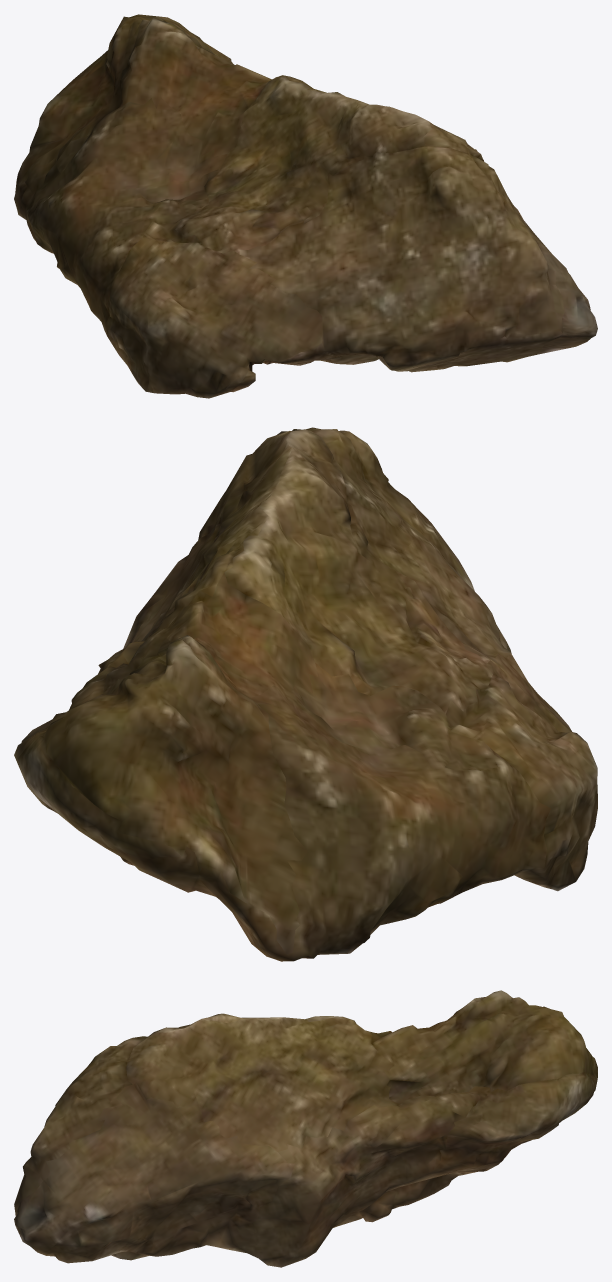
The model's file is moss_a.glb.
3 renders of one model, top to bottom at view 1: azimuth 30°, elevation 25°; view 2: azimuth 150°, elevation 25°; view 3: azimuth 270°, elevation 25°, orthographic. The views are drawn at different scales.
Visible parts, largest first — view 1: rock_moss_set_01_rock01; view 2: rock_moss_set_01_rock01; view 3: rock_moss_set_01_rock01.
Boxes of the visible parts, <box> form: rock_moss_set_01_rock01: <box>14,14,597,398</box>; rock_moss_set_01_rock01: <box>14,427,597,961</box>; rock_moss_set_01_rock01: <box>14,990,597,1267</box>.
Bounding box in the file's own units: 2.24 × 1.47 × 3.36.
Materials: 1 (1 with a texture image).
